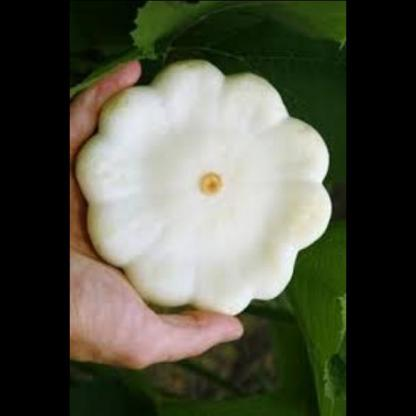squash-patisson: (76, 55, 336, 332)
